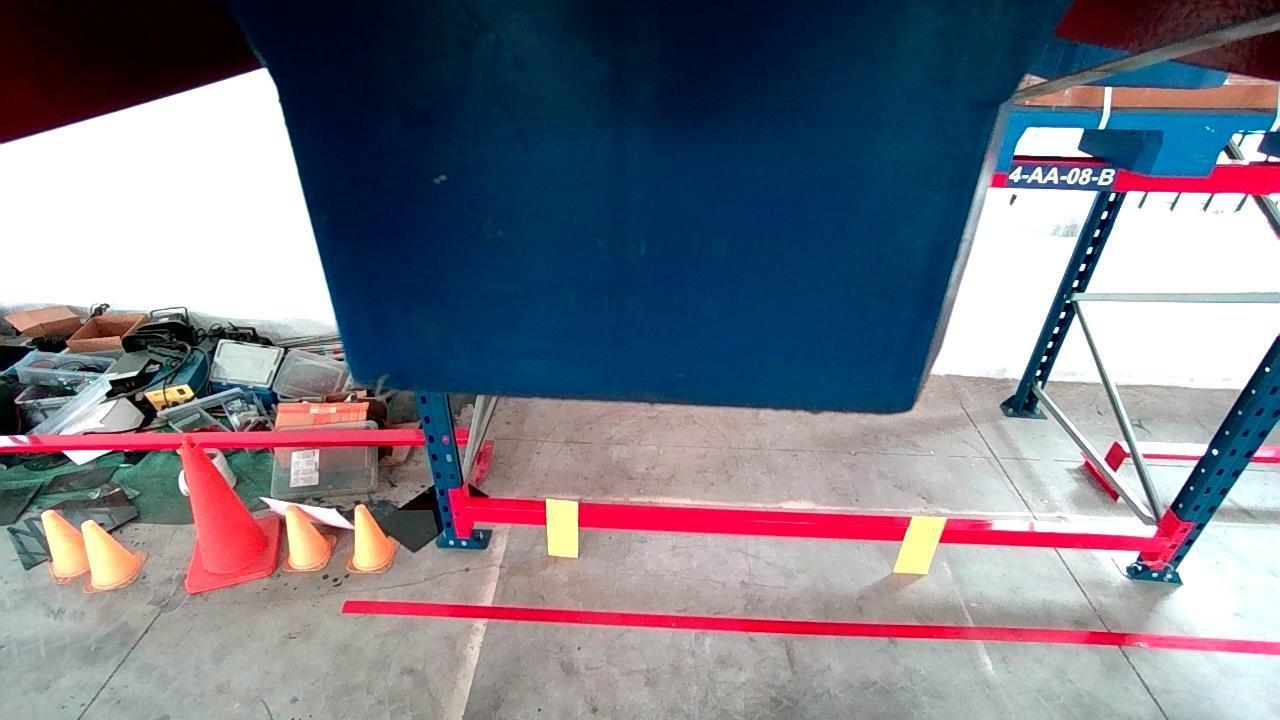h_rack: (470, 499, 1156, 550)
orange_strip: (895, 516, 949, 576), (546, 501, 576, 556)
red_line: (343, 599, 1280, 656)
